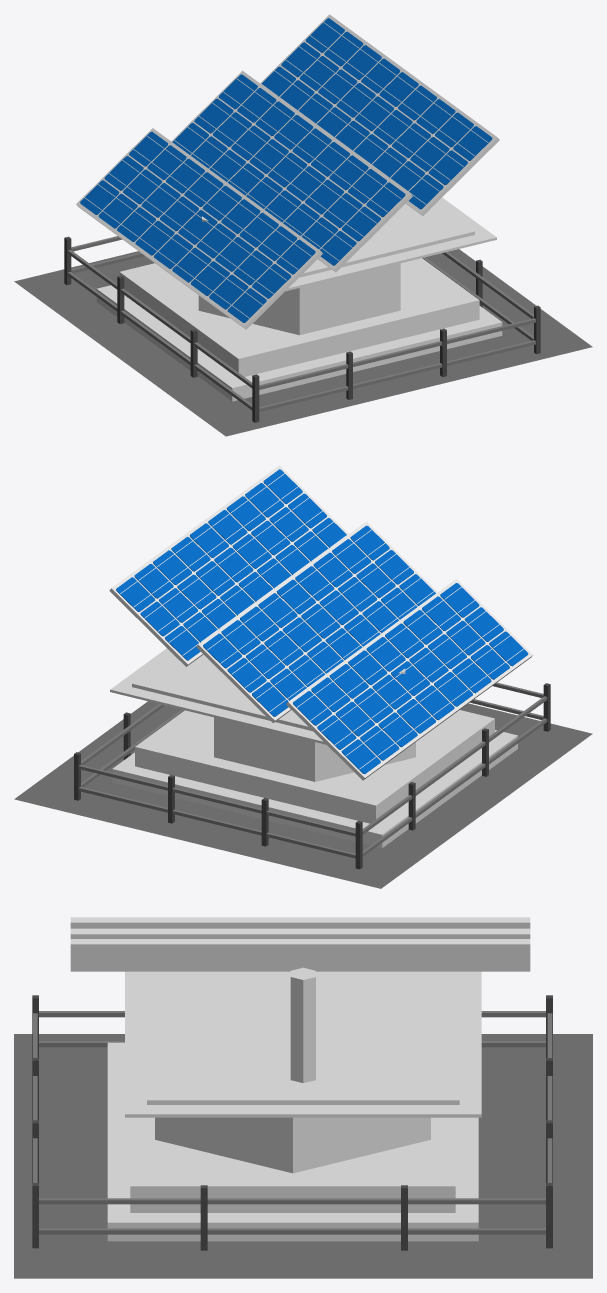
File: Building_1by1_Sustainable.fbx
3 renders of one model, top to bottom at view 1: azimuth 30°, elevation 25°; view 2: azimuth 150°, elevation 25°; view 3: azimuth 270°, elevation 25°, orthographic. The views are drawn at different scales.
Visible parts, largest first — view 1: pCube180, pCylinder31, TE5, pCube195, pCube196; view 2: pCube180, pCylinder31, TE5, pCube195, pCube196; view 3: pCube180, TE5, pCylinder31, pCube196, pCube195, pCube191.
Boxes of the visible parts, bbox=[...] form: pCube180: bbox=[76, 14, 499, 329]; pCylinder31: bbox=[96, 258, 502, 401]; TE5: bbox=[14, 249, 592, 436]; pCube195: bbox=[71, 236, 535, 411]; pCube196: bbox=[67, 250, 533, 410]; pCube180: bbox=[109, 465, 532, 780]; pCylinder31: bbox=[112, 710, 517, 847]; TE5: bbox=[14, 701, 592, 888]; pCube195: bbox=[78, 682, 543, 858]; pCube196: bbox=[81, 696, 547, 856]; pCube180: bbox=[70, 917, 530, 1117]; TE5: bbox=[14, 1034, 592, 1278]; pCylinder31: bbox=[107, 1042, 478, 1241]; pCube196: bbox=[39, 1011, 545, 1234]; pCube195: bbox=[33, 1013, 552, 1182]; pCube191: bbox=[200, 1185, 207, 1250].
Size of the model in its own units: 1 by 0.5547 by 1.
